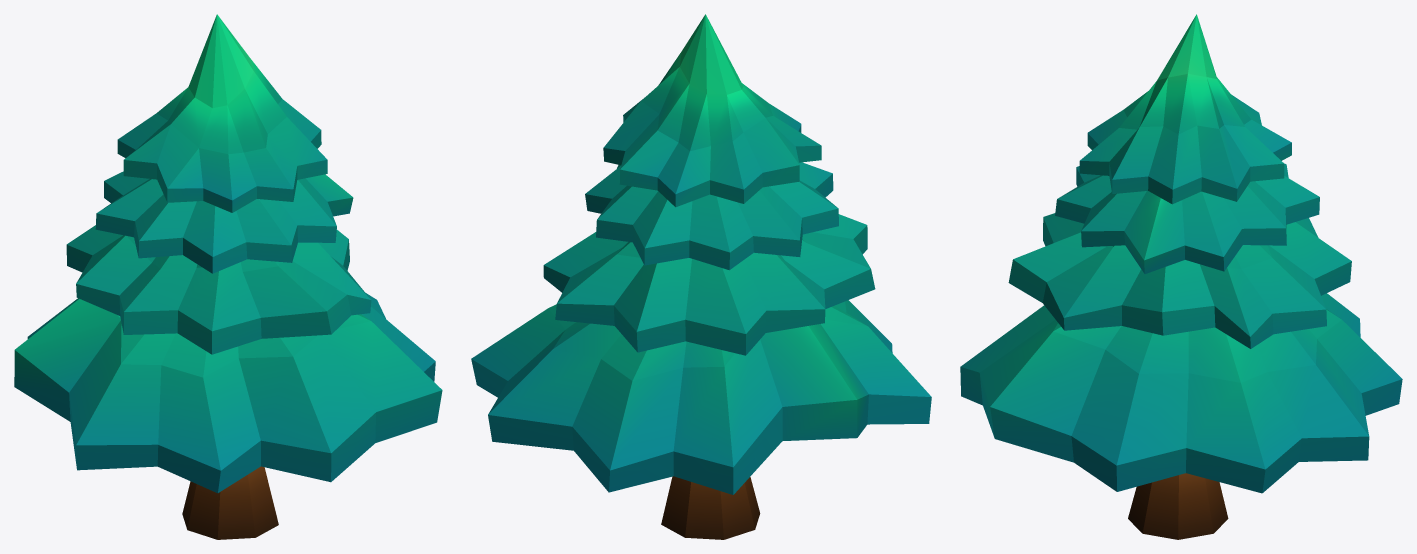
Rendered from Tree_Fern_SmallWide_Summer.fbx.
3 views of the same model, side by side, from view 1: azimuth 30°, elevation 25°; view 2: azimuth 150°, elevation 25°; view 3: azimuth 270°, elevation 25° (orthographic). The views are drawn at different scales.
Parts seen in each view (by area): view 1: Tree_Fern_SmallWide_Summer; view 2: Tree_Fern_SmallWide_Summer; view 3: Tree_Fern_SmallWide_Summer.
Part boxes in pixels (box(x1,y1,x2,y2)): Tree_Fern_SmallWide_Summer: box(14, 14, 442, 539); Tree_Fern_SmallWide_Summer: box(471, 14, 931, 539); Tree_Fern_SmallWide_Summer: box(960, 14, 1402, 539).
Size of the model in its own units: 282 by 359 by 286.
